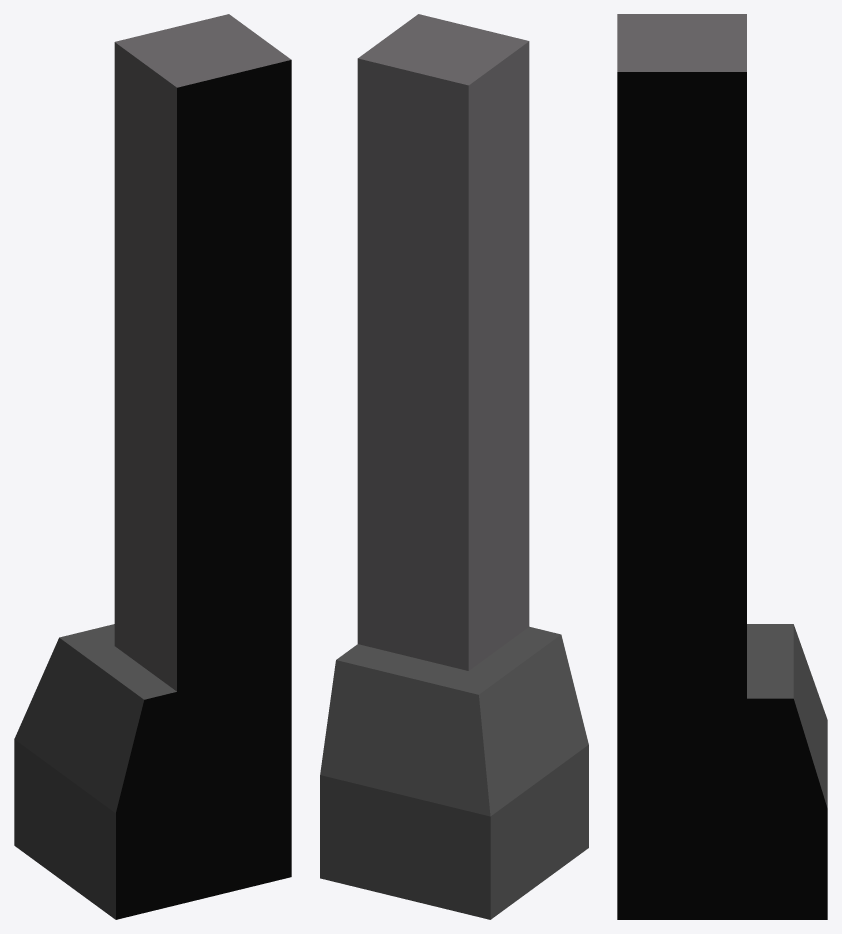
Rendered from Pillar_Quarter_Base.fbx.
The picture shows the model from 3 angles, left to right: view 1: azimuth 30°, elevation 25°; view 2: azimuth 150°, elevation 25°; view 3: azimuth 270°, elevation 25°; orthographic projection. The views are drawn at different scales.
Parts seen in each view (by area): view 1: Pillar_Quarter_Base; view 2: Pillar_Quarter_Base; view 3: Pillar_Quarter_Base.
Part boxes in pixels (left/top/right/bottom): Pillar_Quarter_Base: left=14, top=14, right=291, bottom=919; Pillar_Quarter_Base: left=320, top=14, right=588, bottom=919; Pillar_Quarter_Base: left=617, top=14, right=827, bottom=919.
Bounding box in the file's own units: 34.5 × 153 × 34.5.
